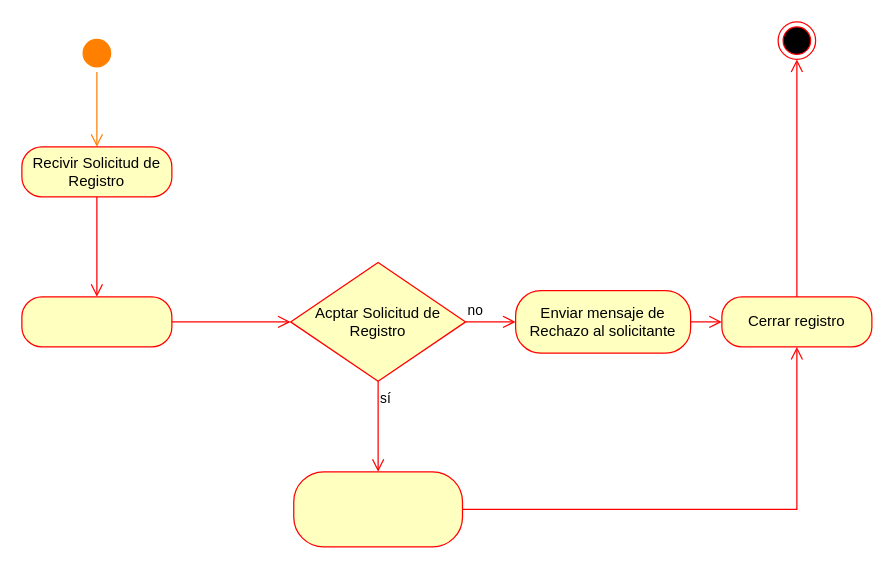
Image size: 894x569. Some labels were removed from this diagram. Each missing label, with the centre of its shape:
"Enviar mensaje de Aceptacion al solicitante" goes at (377,509).
"Revisar Solicitud de Registro" goes at (96,321).
